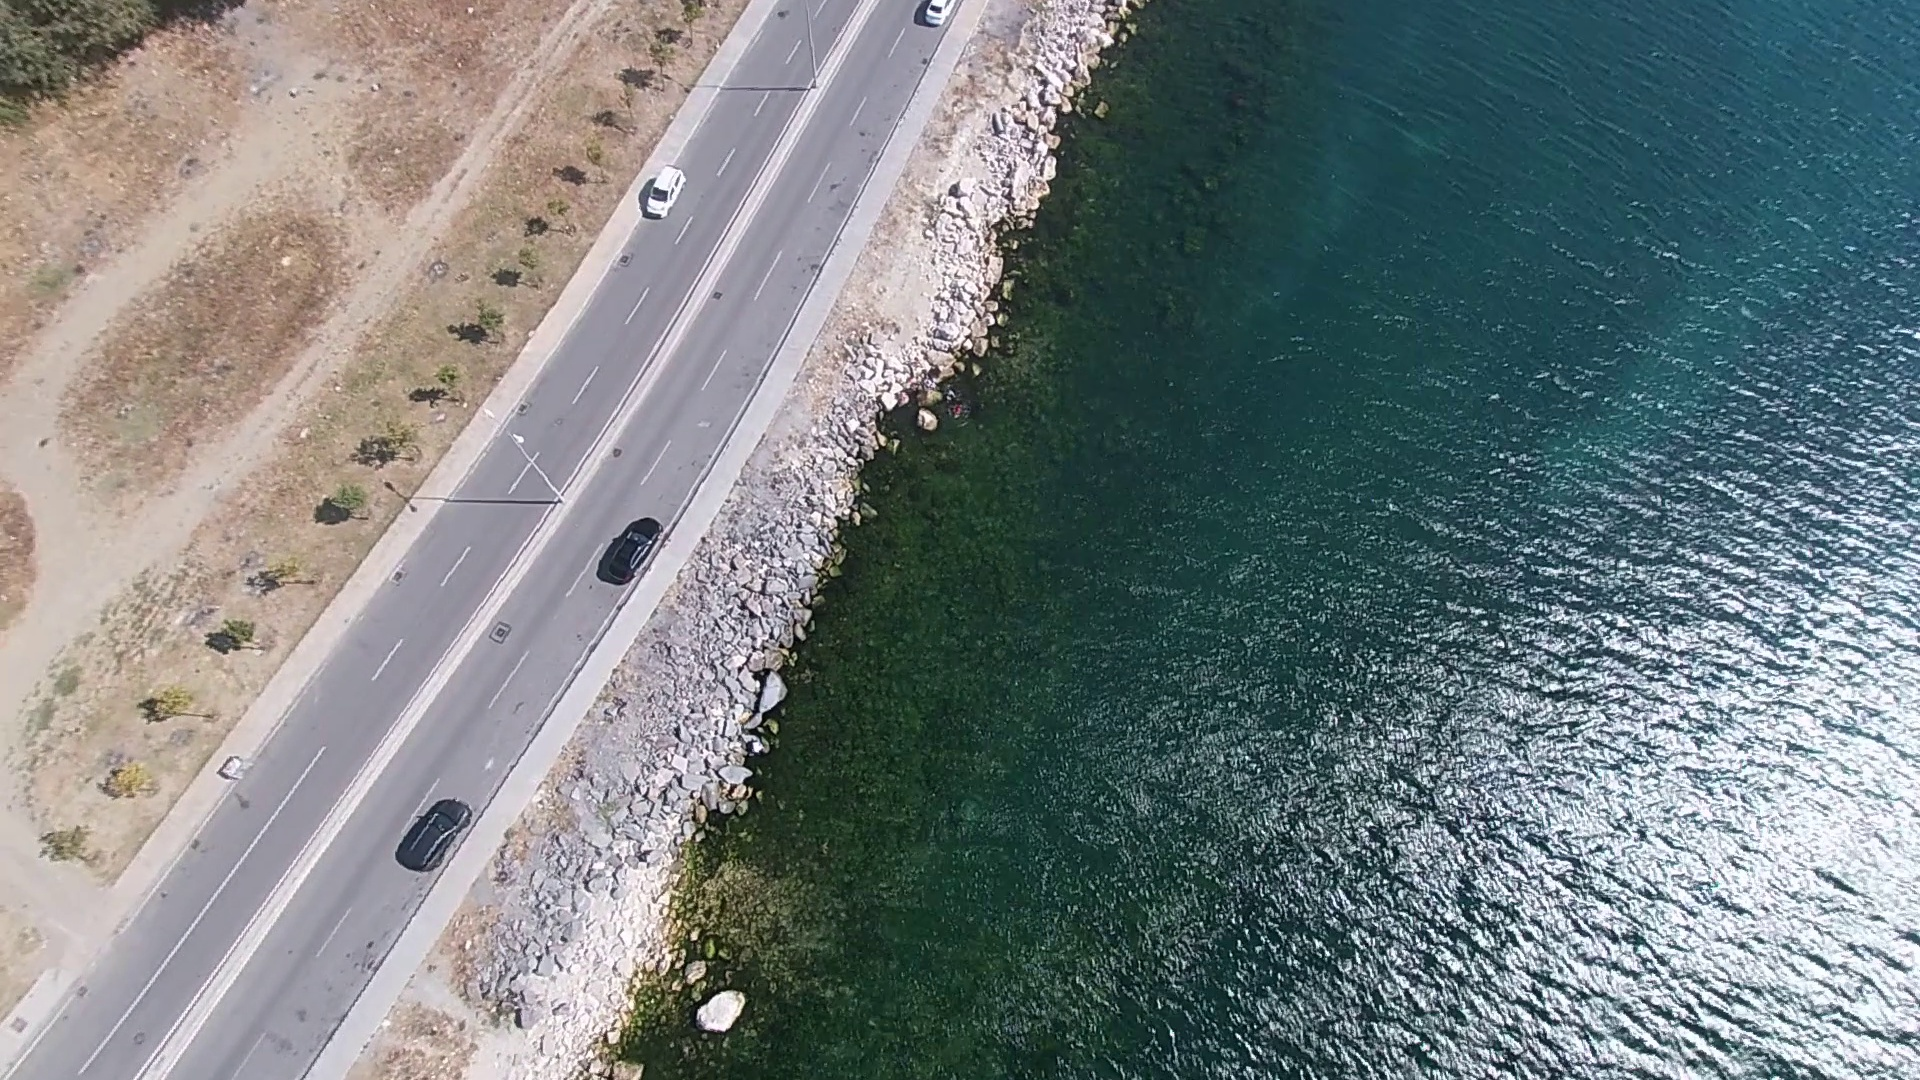araba: (397, 796, 477, 869), (597, 512, 663, 585), (646, 166, 688, 218)
